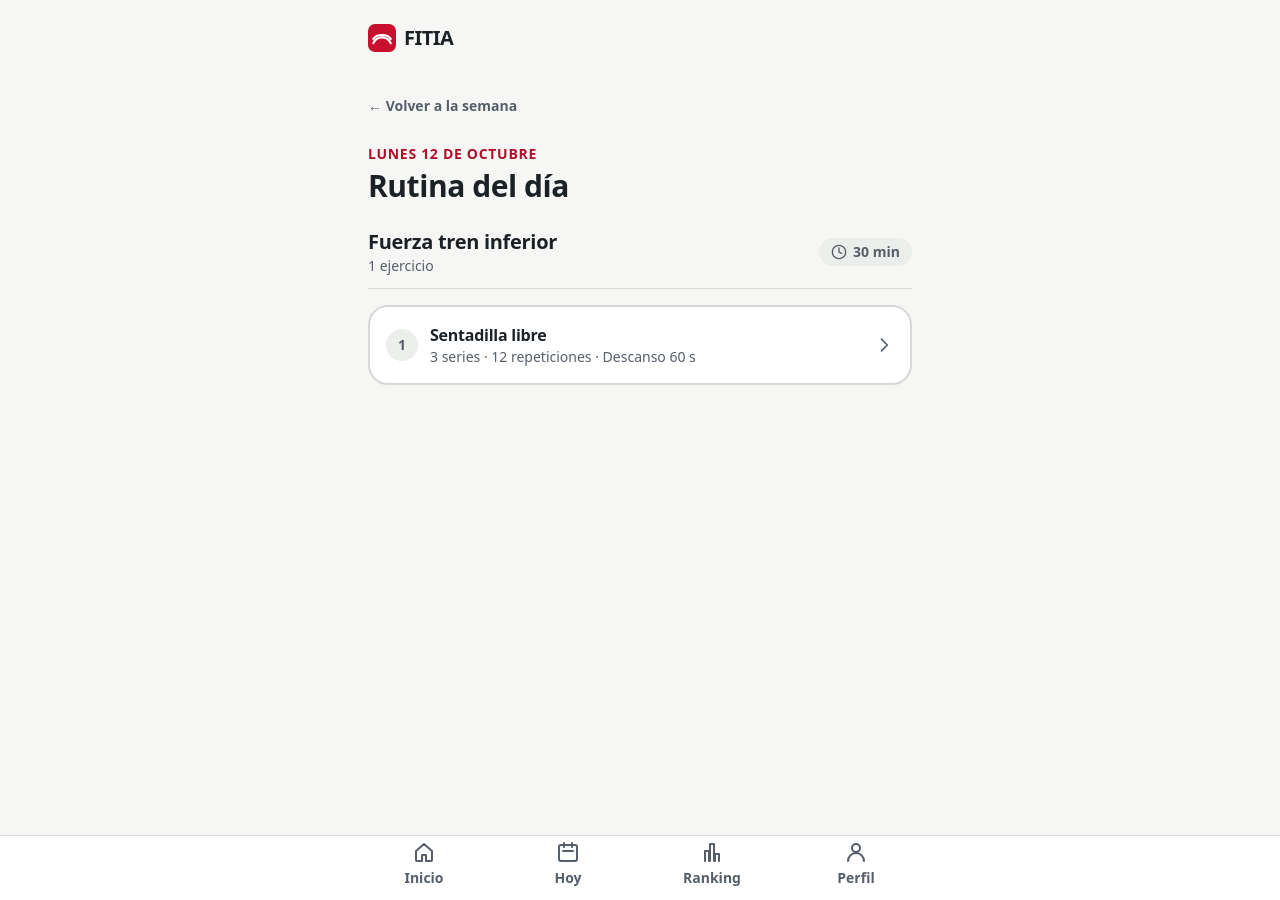
HU 13 — Explicación de ejercicios (bottom sheet) › funciona igualmente en la pantalla de detalle del día (/plan/dia/:fecha)
Click the button "Sentadilla libre".
click(640, 345)  # box x1=368 y1=305 x2=912 y2=385
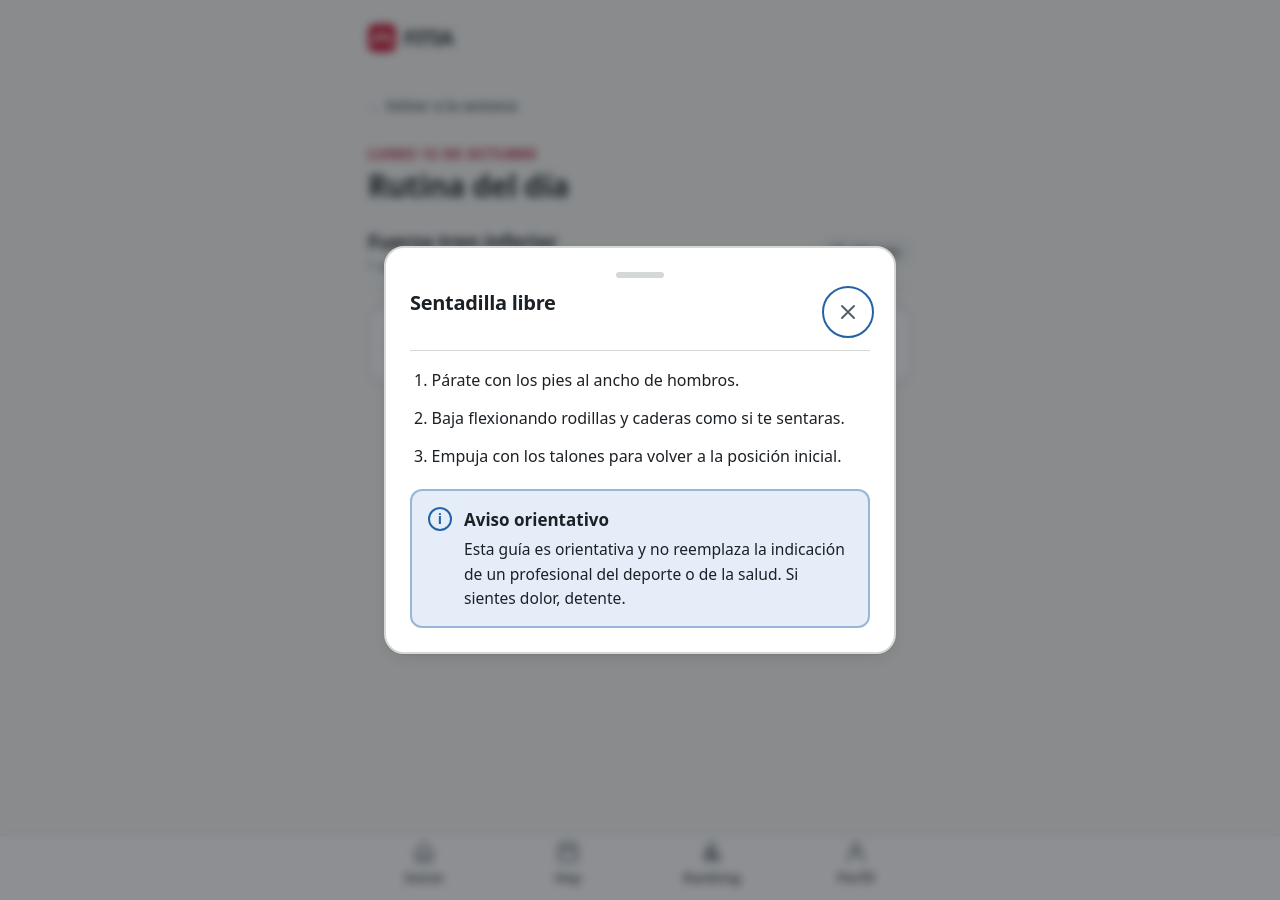
Expected: the dialog is shown, x1=384 y1=246 x2=896 y2=654
Expected: the text "Esta guía es orientativa y no reemplaza la indicación de un profesional del deporte o de la salud. Si sientes dolor, det" is shown, x1=464 y1=538 x2=845 y2=609
